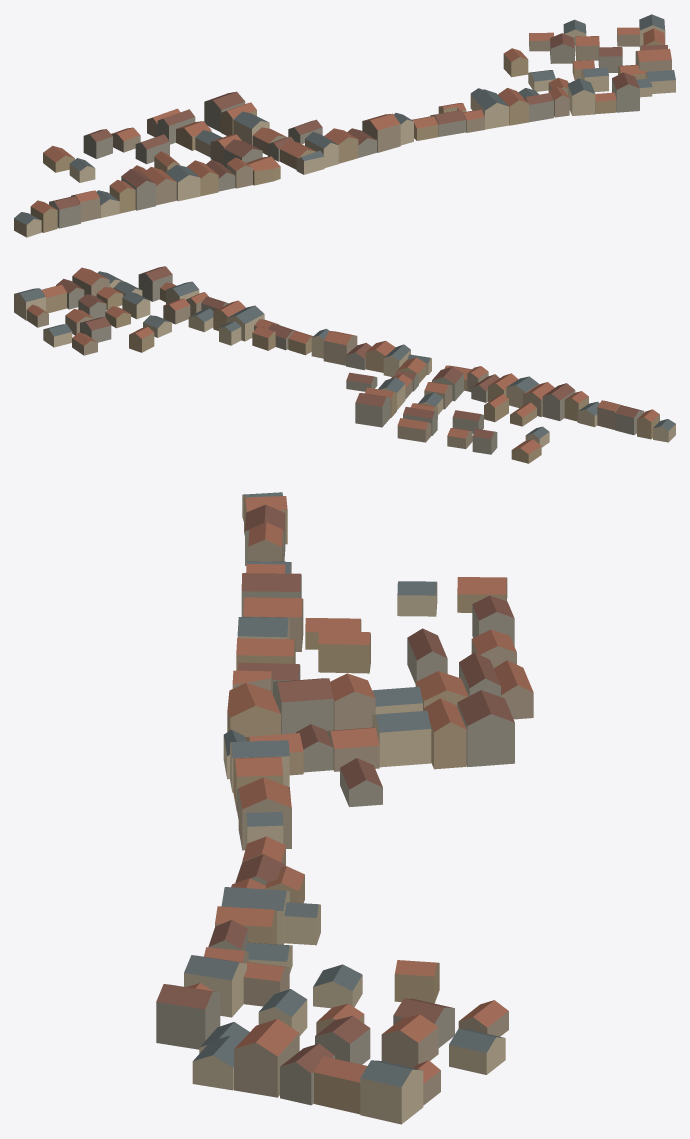
The picture shows the model from 3 angles, top to bottom: view 1: azimuth 30°, elevation 25°; view 2: azimuth 150°, elevation 25°; view 3: azimuth 270°, elevation 25°; orthographic projection. The views are drawn at different scales.
Visible parts, largest first — view 1: C_2_4; view 2: C_2_4; view 3: C_2_4.
Part boxes in pixels (<box>): C_2_4: <box>14,14,675,237</box>; C_2_4: <box>14,266,675,463</box>; C_2_4: <box>156,492,533,1124</box>.
Bounding box in the file's own units: 363 × 14.35 × 95.04.
